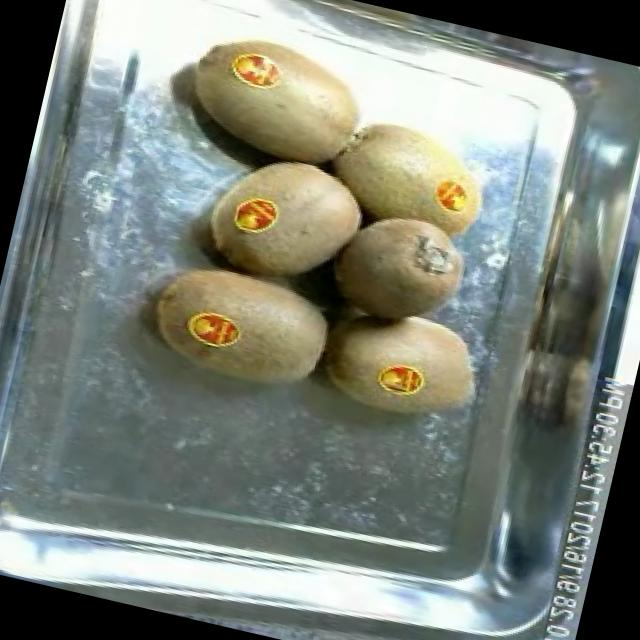Fruit: (128, 238, 350, 418), (170, 11, 389, 185), (304, 94, 508, 254), (314, 192, 484, 348), (214, 146, 381, 301)
